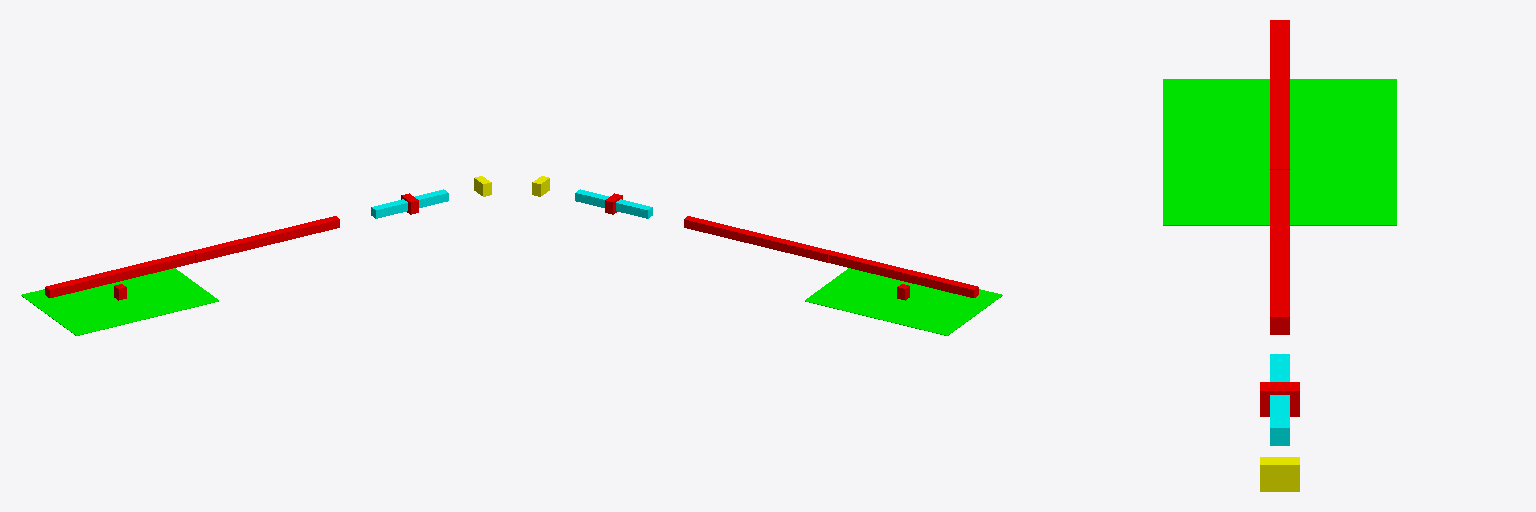
URDF robot description (rsx_arm):
<robot name="rsx_arm">
  <link name="link0_base">
    <visual>
      <origin xyz="0 0 0" rpy="0 0 0" />
      <geometry>
        <box size="35.5 24 0.1" />
      </geometry>
      <material name="Green">
        <color rgba="0 1.0 0 0.5"/>
      </material>
    </visual>
  </link>

  <link name="link1_waist">
    <visual>
      <origin xyz="0 0 0" rpy="0 0 0" />
      <geometry>
        <box size="2 2 5.5" />
      </geometry>
      <material name="Red">
        <color rgba="1.0 0 0 0.5"/>
      </material>
    </visual>
  </link>

  <link name="link2_shoulder">
    <visual>
      <origin xyz="0 0 0" rpy="0 0 0" />
      <geometry>
        <box size="36 2 2" />
      </geometry>
      <material name="Red">
        <color rgba="1.0 0 0 0.5"/>
      </material>
    </visual>
  </link>

  <link name="link3_elbow">
    <visual>
      <origin xyz="0 0 0" rpy="0 0 0" />
      <geometry>
        <box size="35.683 2 2" />
      </geometry>
      <material name="Red">
        <color rgba="1.0 0 0 0.5"/>
      </material>
    </visual>
  </link>

  <link name="link4_wrist1">
    <visual>
      <origin xyz="0 0 0" rpy="0 0 0" />
      <geometry>
        <box size="4 3 2" />
      </geometry>
      <material name="Red">
        <color rgba="1.0 0 0 0.5"/>
      </material>
    </visual>
  </link>

  <link name="link5_wrist2">
    <visual>
      <origin xyz="0 0 0" rpy="0 0 0" />
      <geometry>
        <box size="18 2 2" />
      </geometry>
      <material name="Cyan">
        <color rgba="0 1.0 1.0 0.5"/>
      </material>
    </visual>
  </link>

  <link name="link6_wrist3">
    <visual>
      <origin xyz="0 0 0" rpy="0 0 0" />
      <geometry>
        <box size="4 3 2" />
      </geometry>
      <material name="Yellow">
        <color rgba="1.0 1.0 0 0.5"/>
      </material>
    </visual>
  </link>
    


  <joint name="joint0_waist" type="continuous">
    <parent link="link0_base"/>
    <child link="link1_waist"/>
    <origin xyz="0 0 0" rpy="0 0 0" />
    <axis xyz="0 0 1" />
  </joint>
   
  <joint name="joint1_shoulder" type="continuous">
    <parent link="link1_waist"/>
    <child link="link2_shoulder"/>
    <origin xyz="0 0 5.5" rpy="1.5707963 0 0" />
    <axis xyz="0 0 1" />
  </joint>
   
  <joint name="joint2_elbow" type="continuous">
    <parent link="link2_shoulder"/>
    <child link="link3_elbow"/>
    <origin xyz="36 0 0" rpy="0 0 0" />
    <axis xyz="0 0 1" />
  </joint>

  <joint name="joint3_wrist1" type="continuous">
    <parent link="link3_elbow"/>
    <child link="link4_wrist1"/>
    <origin xyz="35.683 0 0" rpy="0 1.5707963 0" />
    <axis xyz="0 0 1" />
  </joint>

  <joint name="joint4_wrist2" type="continuous">
    <parent link="link4_wrist1"/>
    <child link="link5_wrist2"/>
    <origin xyz="0 0 0" rpy="0 -1.5707963 0" />
    <axis xyz="0 0 1" />
  </joint>

  <joint name="joint5_wrist3" type="continuous">
    <parent link="link5_wrist2"/>
    <child link="link6_wrist3"/>
    <origin xyz="18 0 0" rpy="0 1.5707963 0" />
    <axis xyz="0 0 1" />
  </joint>
</robot>

--- Facts derived from the render (not from the file) ---
3 views of the same robot in one strip: view 1: azimuth 30°, elevation 25°; view 2: azimuth 150°, elevation 25°; view 3: azimuth 270°, elevation 25° (orthographic).
Robot: rsx_arm — 7 links, 6 joints (6 continuous); root link link0_base; default pose: every joint at zero.
Links seen in each view (by area): view 1: link0_base, link2_shoulder, link3_elbow, link5_wrist2; view 2: link0_base, link2_shoulder, link3_elbow, link5_wrist2; view 3: link0_base, link3_elbow, link2_shoulder, link5_wrist2, link6_wrist3, link4_wrist1.
Link boxes in pixels (x1,y1,x2,y2): link0_base: (21,268,218,335); link2_shoulder: (45,251,194,297); link3_elbow: (191,216,339,262); link5_wrist2: (371,189,448,218); link0_base: (805,268,1002,335); link2_shoulder: (829,251,978,297); link3_elbow: (684,216,832,262); link5_wrist2: (575,189,652,218); link0_base: (1163,79,1396,225); link3_elbow: (1270,170,1289,334); link2_shoulder: (1270,20,1289,169); link5_wrist2: (1270,354,1289,445); link6_wrist3: (1260,457,1299,491); link4_wrist1: (1260,382,1299,416).
Size in the robot's own frame: 109 by 24 by 9.75 metres.
Geometry: primitives only (box / cylinder / sphere), no mesh files.